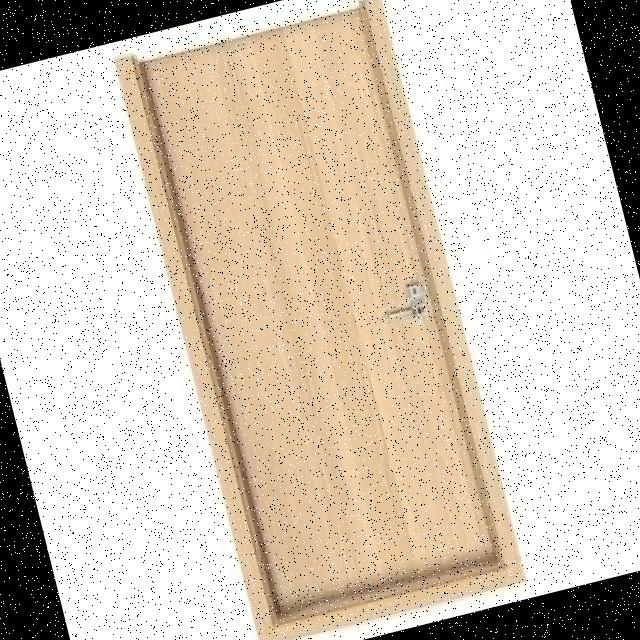Door: (108, 0, 526, 640)
